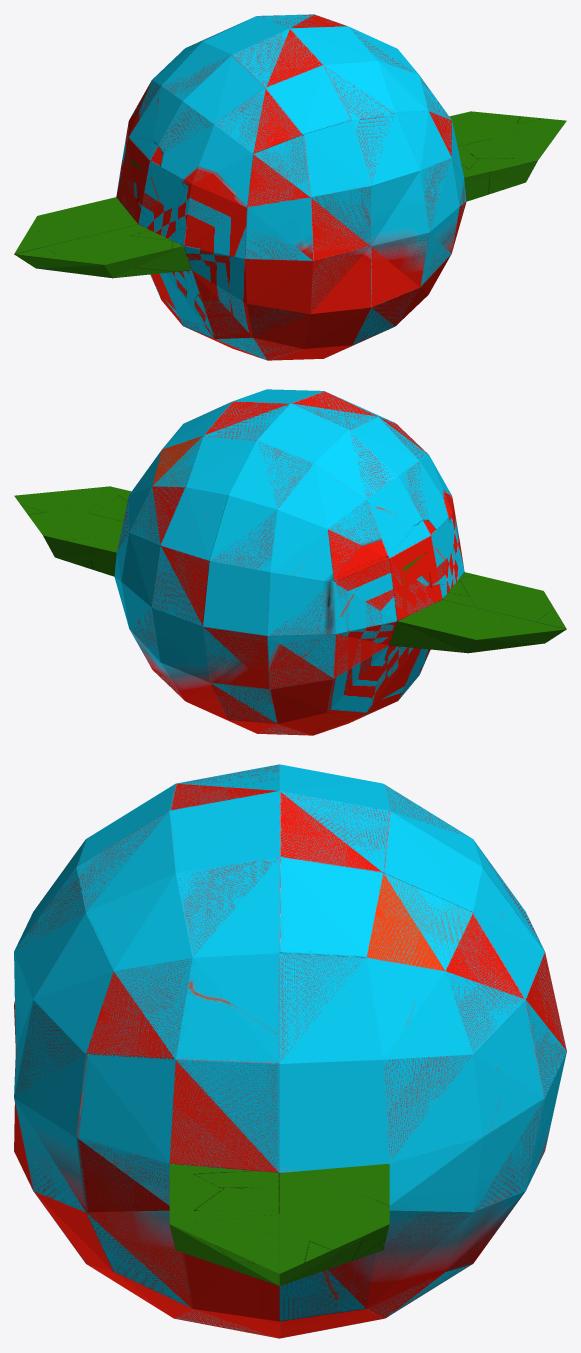
File: ship.obj
The picture shows the model from 3 angles, top to bottom: view 1: azimuth 30°, elevation 25°; view 2: azimuth 150°, elevation 25°; view 3: azimuth 270°, elevation 25°; orthographic projection. The views are drawn at different scales.
Parts seen in each view (by area): view 1: Cube; view 2: Cube; view 3: Cube.
Part boxes in pixels (<box>): Cube: <box>14,14,566,360</box>; Cube: <box>14,389,566,735</box>; Cube: <box>14,764,566,1338</box>.
Size of the model in its own units: 6.3 by 3.46 by 3.33.
